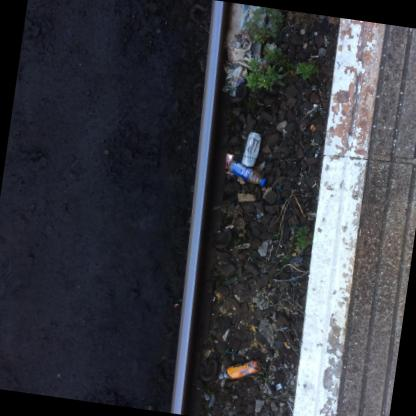Metal: (241, 130, 261, 166), (261, 185, 266, 189), (259, 210, 263, 215), (256, 213, 261, 217)
Paper: (221, 1, 269, 95), (310, 55, 319, 57)
Plastic: (226, 159, 266, 185), (218, 357, 262, 378), (225, 152, 234, 167), (275, 382, 282, 389), (261, 177, 266, 185), (278, 197, 283, 203), (278, 186, 282, 191)
Waste: (286, 399, 293, 412), (279, 326, 287, 330)
